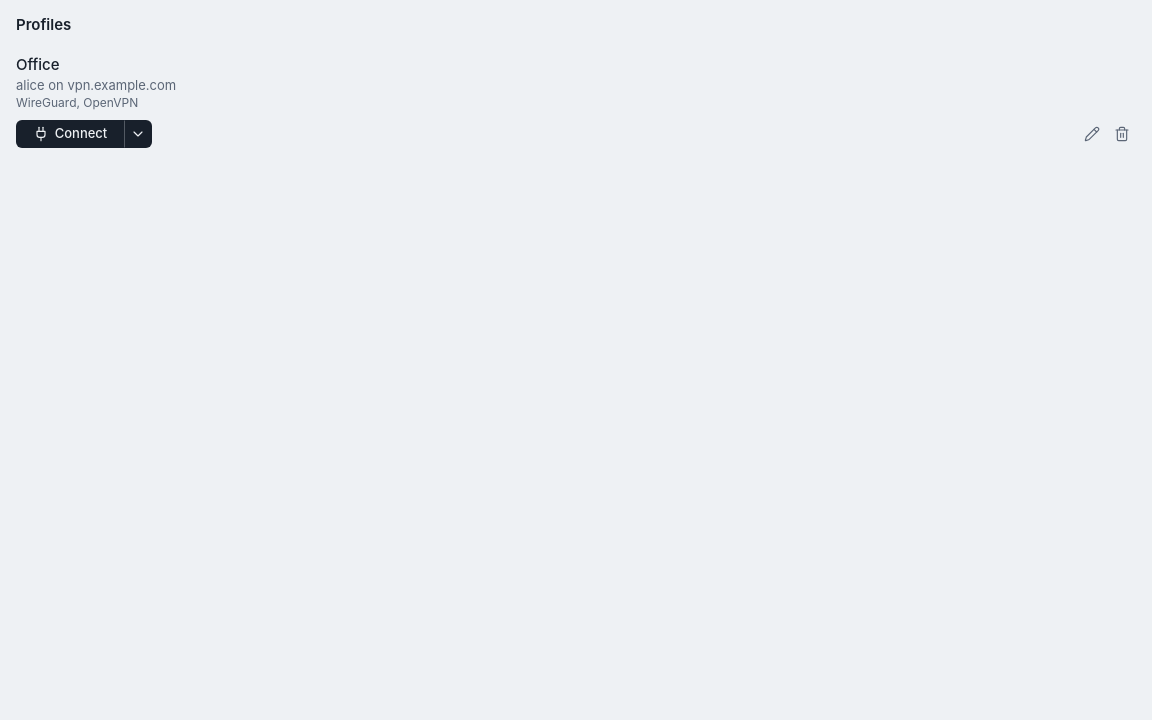
Test case: ProfileList › transport picker › closes when clicking outside or toggling again
Click the button named "Choose transport" at (138, 134), box [124,120,152,148]
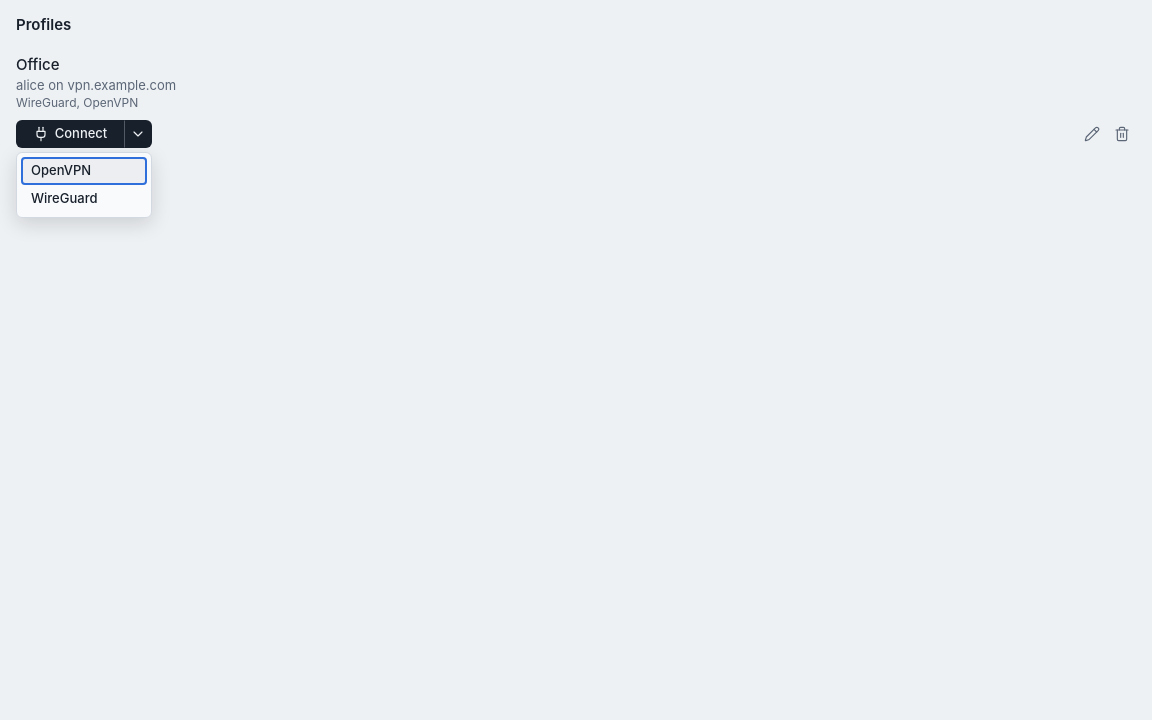
Press the mouse on the element that starts with "Profiles" at (576, 360), box [0,0,1151,719]
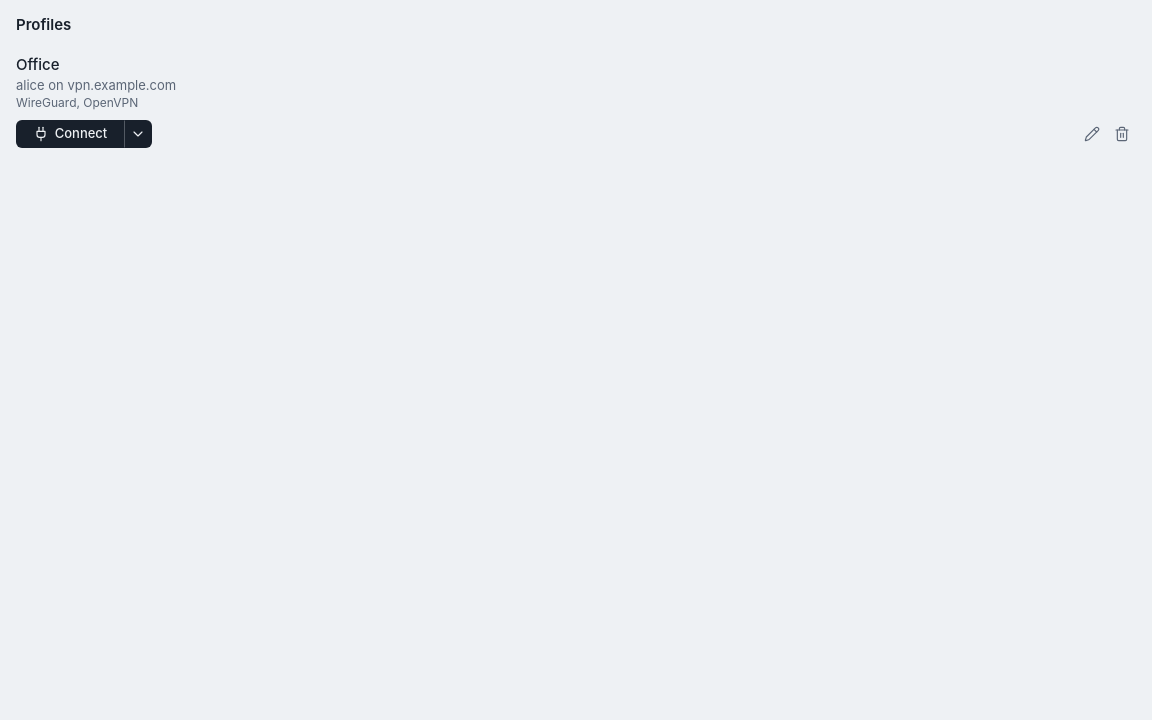
Now the menu is gone
Click the button named "Choose transport" at (138, 134), box [124,120,152,148]
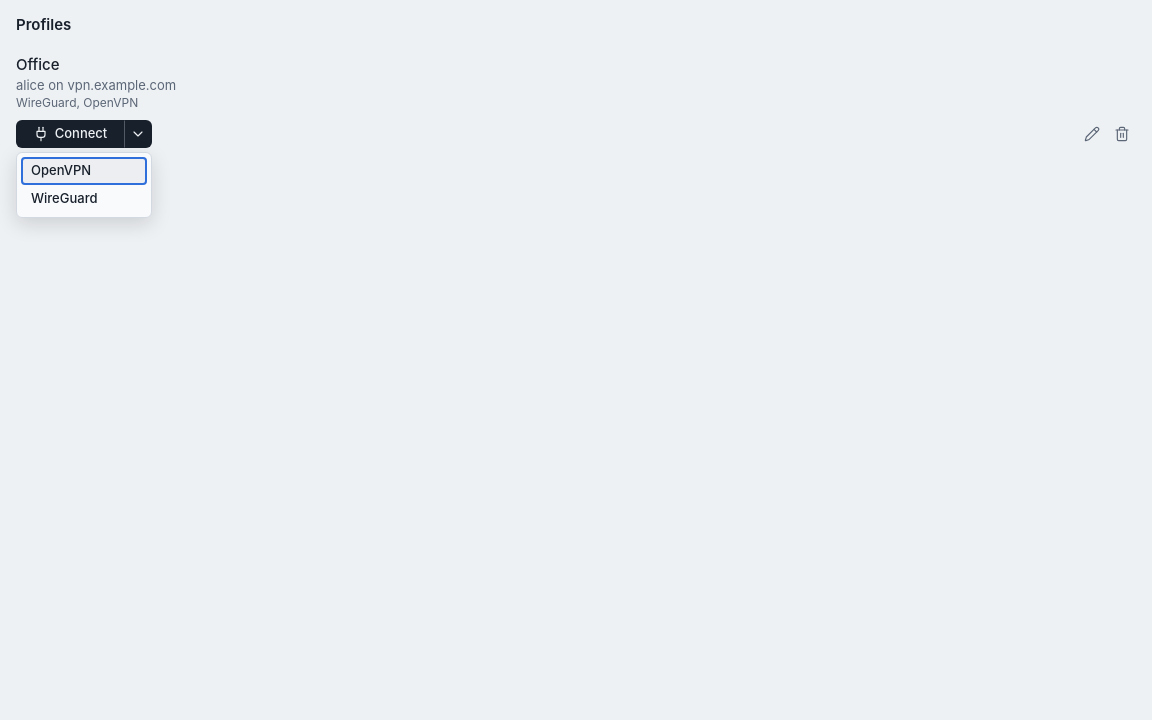
Click the button named "Choose transport" at (138, 134), box [124,120,152,148]
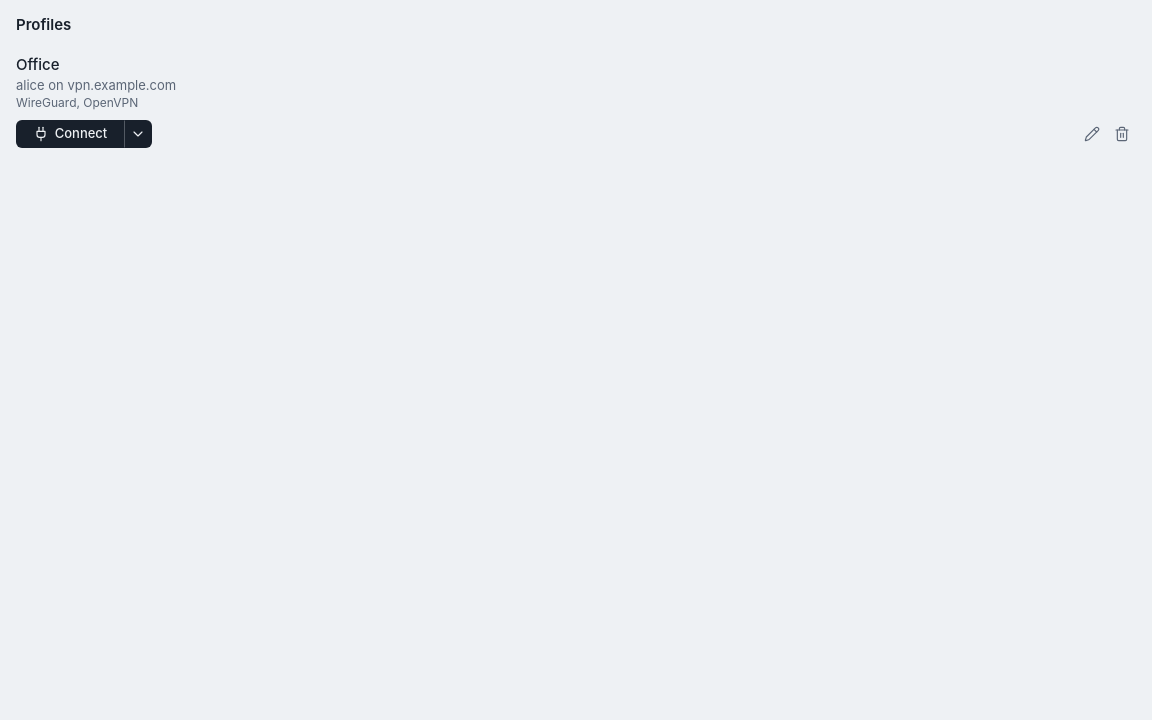
Now the menu is gone
